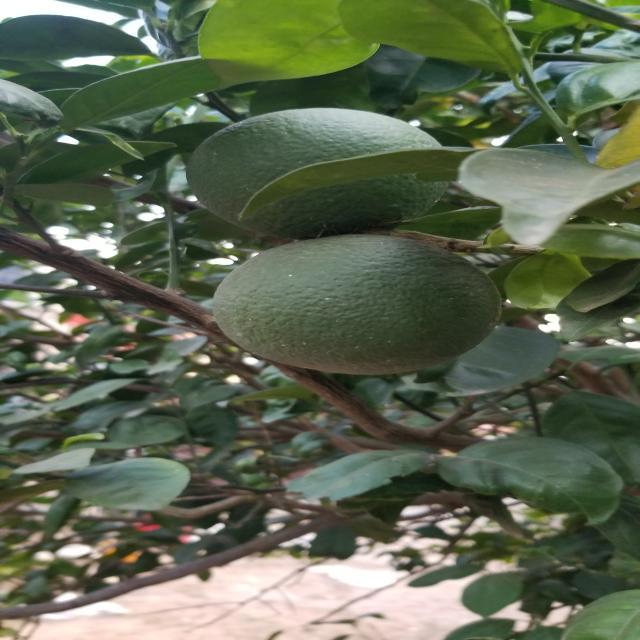Unripe: (212, 230, 519, 376), (180, 104, 450, 234)
